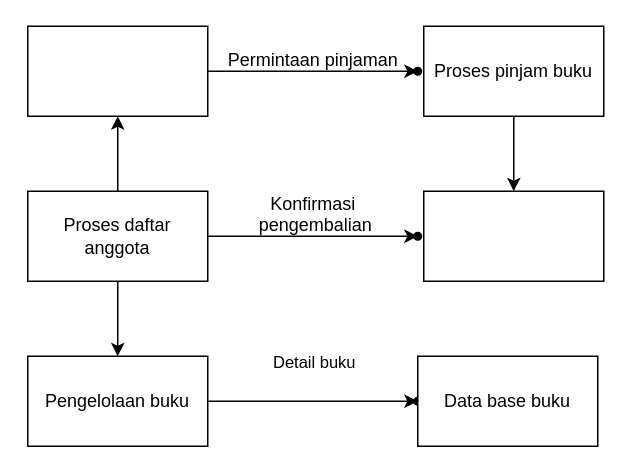
Image size: 630x473. Some labels were removed from this diagram. Each missing label, with the centre of its shape:
"anggota_perpustakaan" goes at [117,70].
"Proses pengembalian buku" goes at [513,235].
